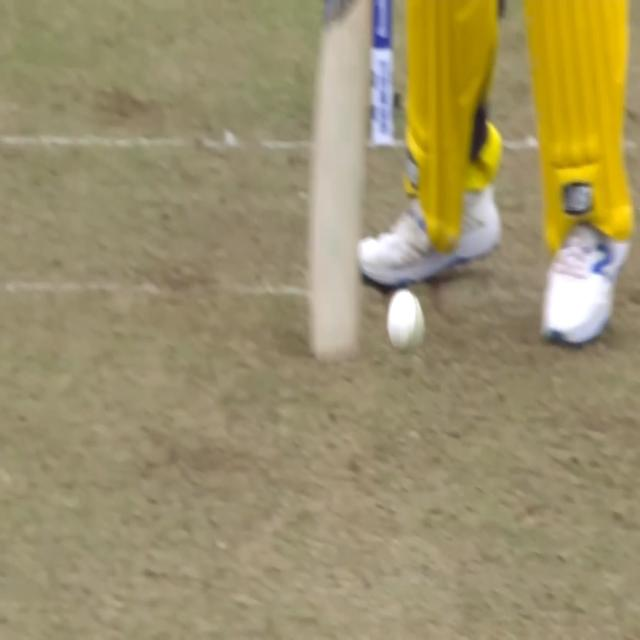ball: (382, 285, 430, 362)
